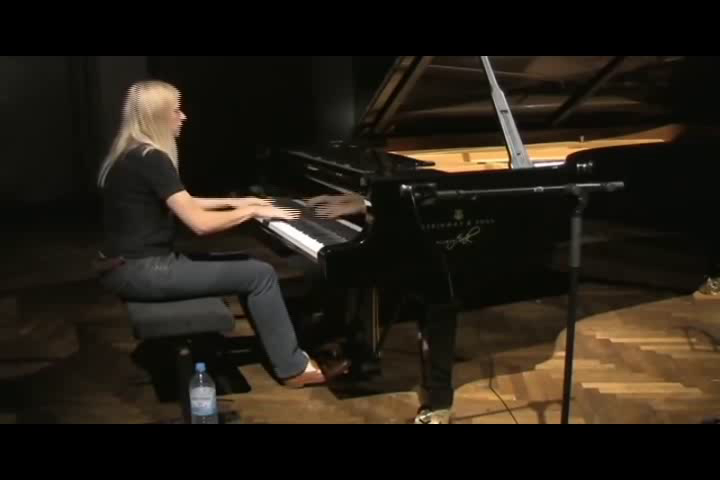keyboard: (223, 189, 366, 261)
